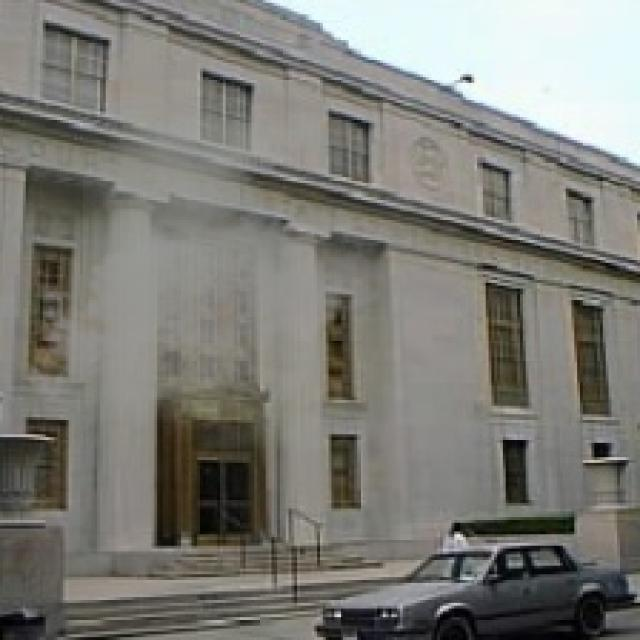Smoke: (14, 94, 400, 452)
